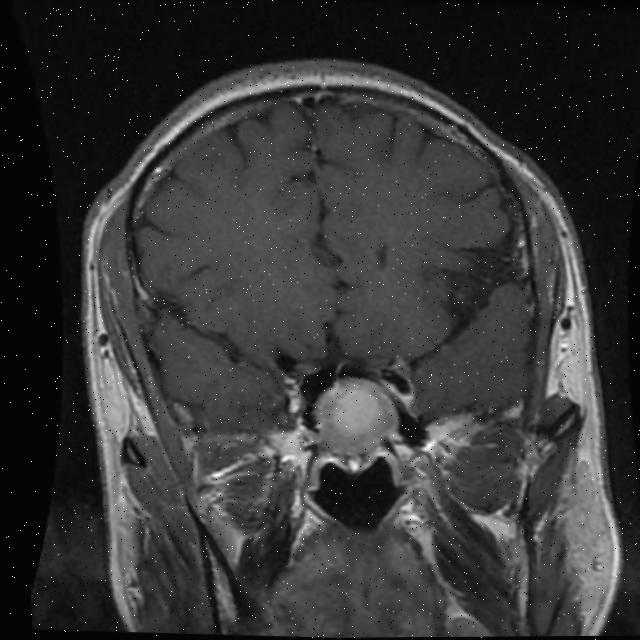Pituitary: (305, 373, 404, 456)
